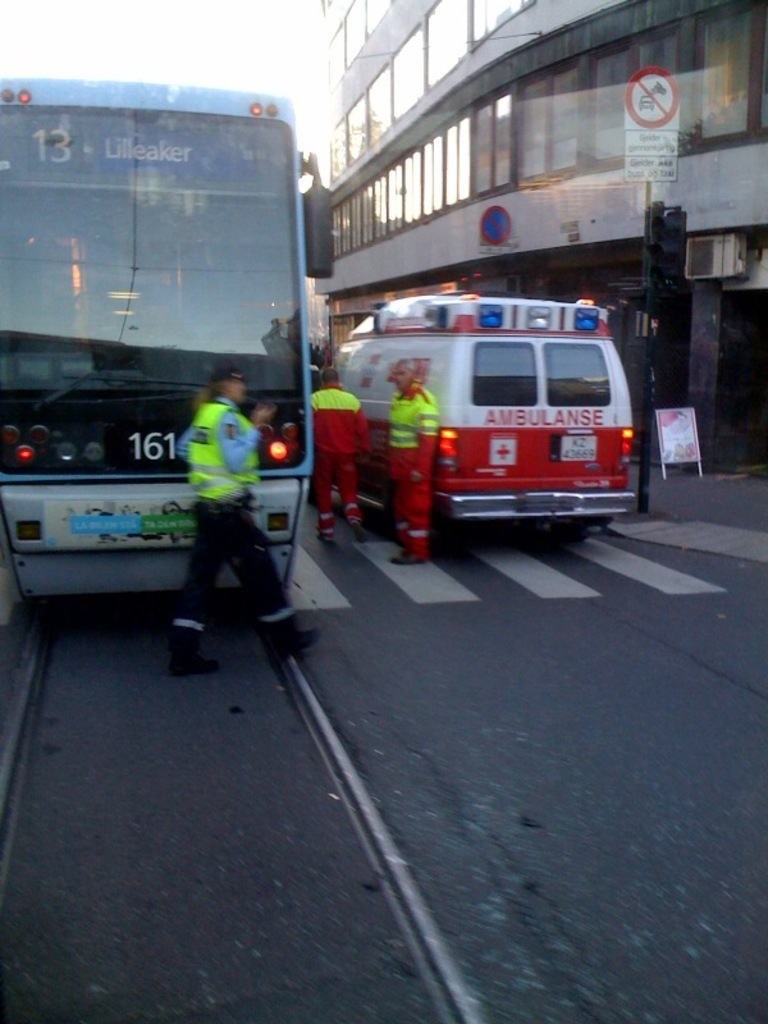Bus: (0, 75, 336, 602)
